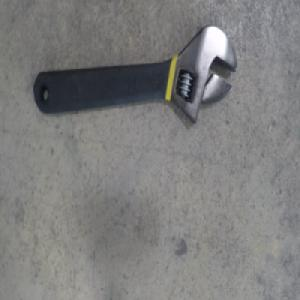AdjustableWrench: (31, 23, 234, 128)
